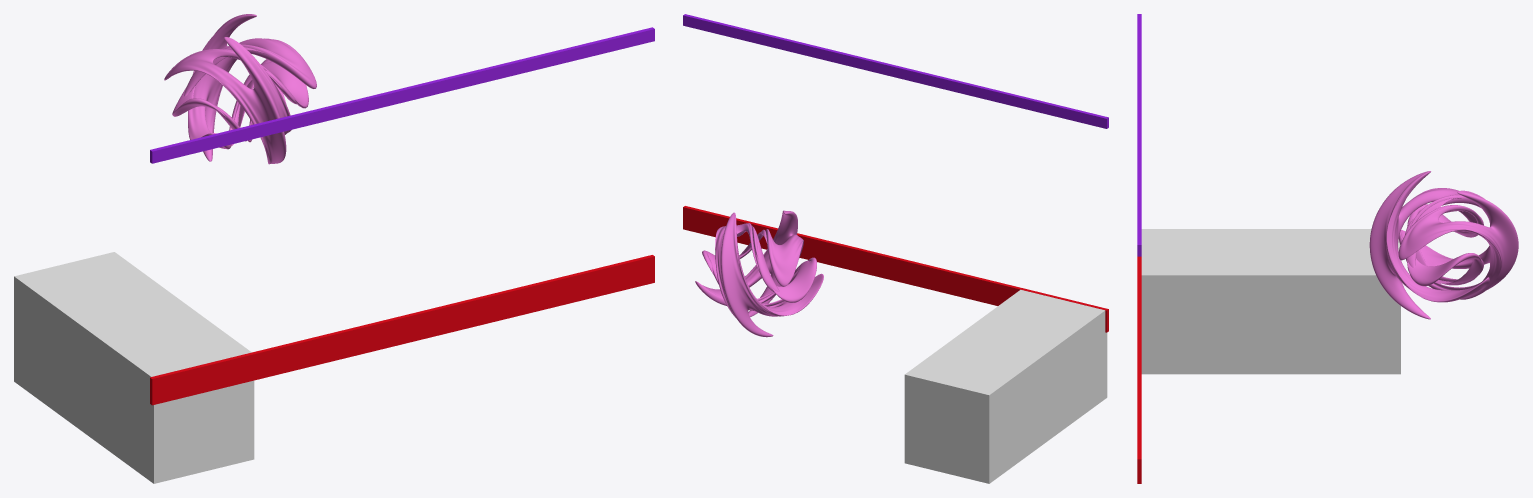
The picture shows the model from 3 angles, left to right: view 1: azimuth 30°, elevation 25°; view 2: azimuth 150°, elevation 25°; view 3: azimuth 270°, elevation 25°; orthographic projection. The views are drawn at different scales.
Parts seen in each view (by area): view 1: Cube, Cube.002, Torus, Cube.001; view 2: Cube, Torus, Cube.002, Cube.001; view 3: Cube, Torus, Cube.001, Cube.002.
Part boxes in pixels (left/top/right/bottom): Cube: left=14, top=252, right=254, bottom=483; Cube.002: left=150, top=255, right=654, bottom=405; Torus: left=164, top=14, right=316, bottom=164; Cube.001: left=150, top=27, right=654, bottom=163; Cube: left=904, top=289, right=1107, bottom=483; Torus: left=695, top=210, right=823, bottom=337; Cube.002: left=683, top=206, right=1108, bottom=332; Cube.001: left=683, top=14, right=1108, bottom=128; Cube: left=1141, top=229, right=1400, bottom=374; Torus: left=1369, top=171, right=1518, bottom=319; Cube.001: left=1137, top=14, right=1141, bottom=256; Cube.002: left=1137, top=256, right=1141, bottom=483.
Bounding box in the file's own units: 10 × 6.33 × 6.98.
